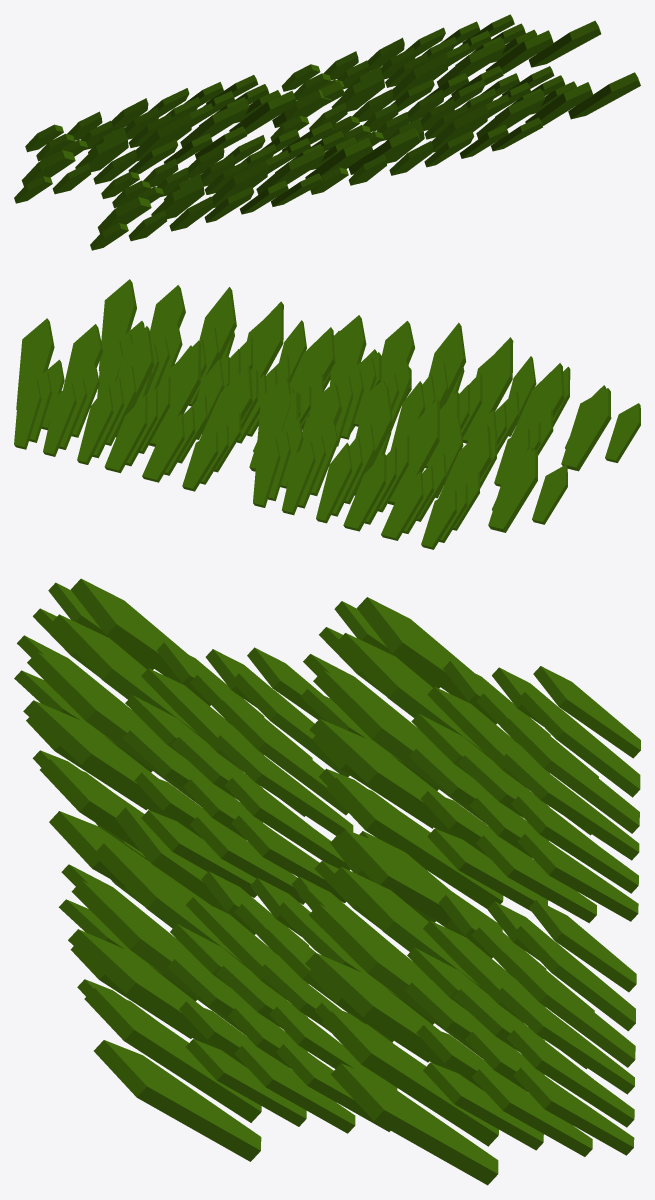
The model's file is grass var2.fbx.
3 renders of one model, top to bottom at view 1: azimuth 30°, elevation 25°; view 2: azimuth 150°, elevation 25°; view 3: azimuth 270°, elevation 25°, orthographic. The views are drawn at different scales.
Visible parts, largest first — view 1: Plane.001, Plane.002, Plane.003, Plane; view 2: Plane.002, Plane.003, Plane.001, Plane; view 3: Plane.002, Plane.003, Plane.001, Plane.
Part boxes in pixels (x1=…): Plane.001: x1=90, y1=122, x2=420, y2=250; Plane.002: x1=14, y1=75, x2=344, y2=203; Plane.003: x1=270, y1=14, x2=601, y2=141; Plane: x1=310, y1=66, x2=640, y2=194; Plane.002: x1=253, y1=377, x2=567, y2=549; Plane.003: x1=14, y1=318, x2=308, y2=491; Plane.001: x1=330, y1=315, x2=640, y2=486; Plane: x1=97, y1=279, x2=411, y2=443; Plane.002: x1=300, y1=597, x2=640, y2=931; Plane.003: x1=296, y1=831, x2=636, y2=1185; Plane.001: x1=14, y1=578, x2=353, y2=905; Plane: x1=58, y1=807, x2=397, y2=1161.
Bounding box in the file's own units: 450 × 69.67 × 228.
